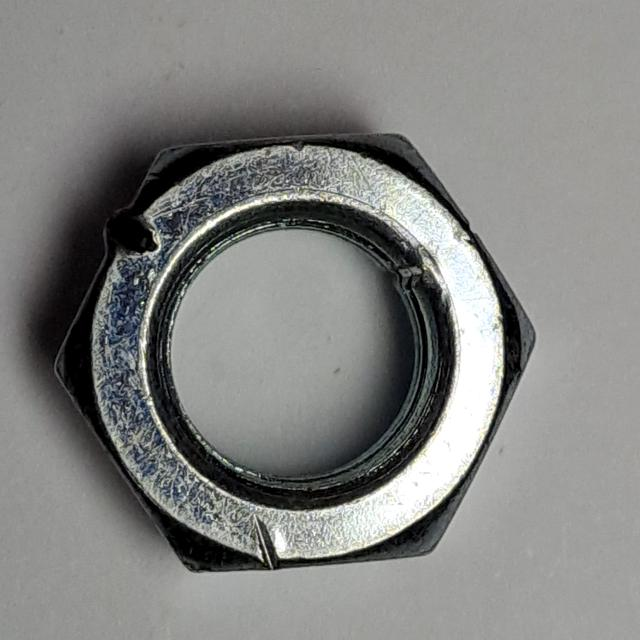Scratches: (42, 122, 552, 586)
